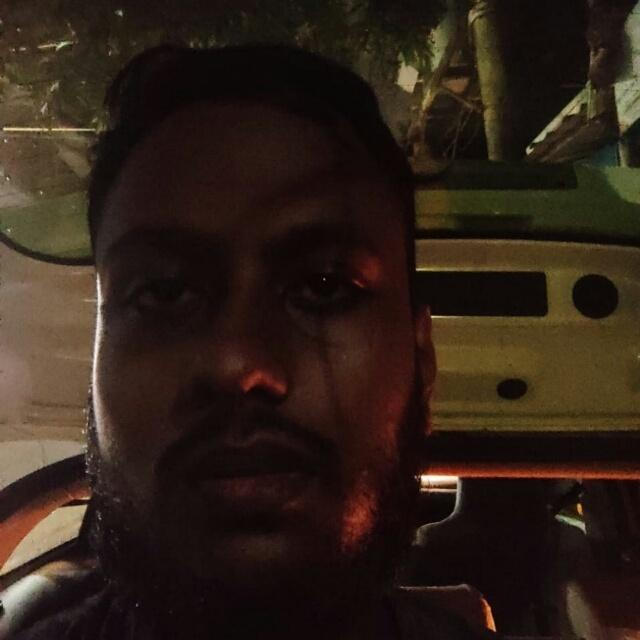Sad: (80, 93, 464, 578)
